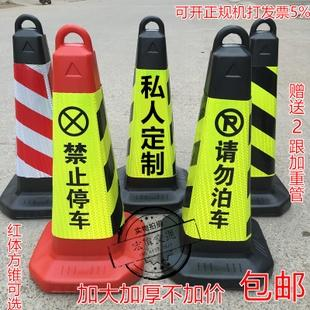cone_barrel: (35, 25, 132, 281), (173, 27, 263, 266), (115, 20, 185, 207), (242, 20, 284, 203)
